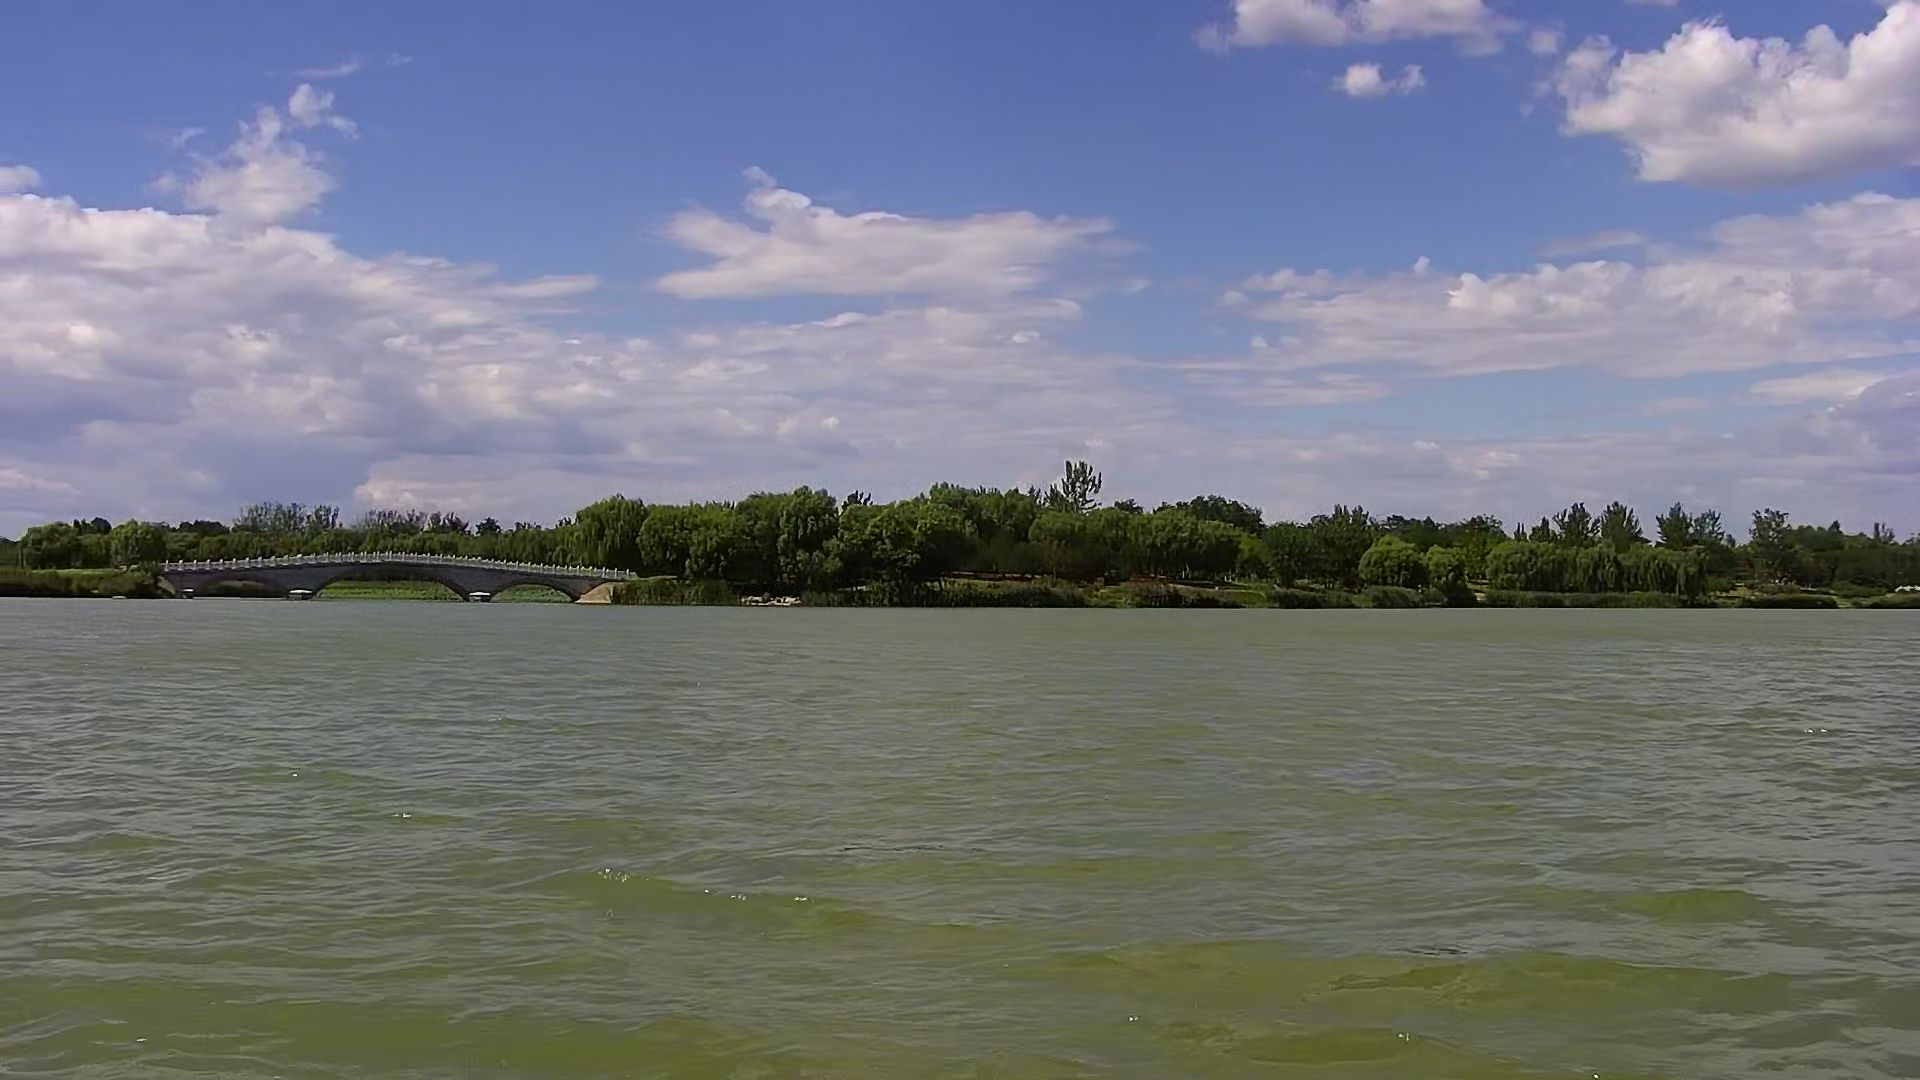bridge: (144, 543, 647, 607)
